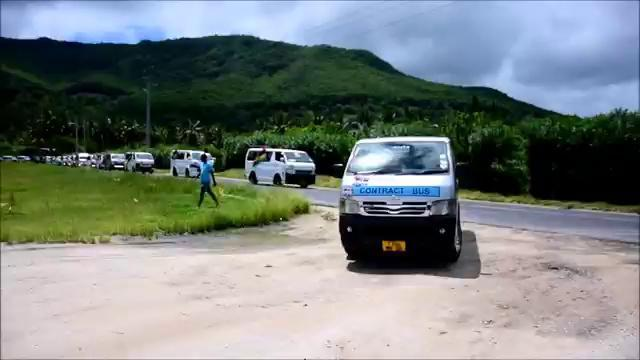van: (334, 133, 471, 263)
